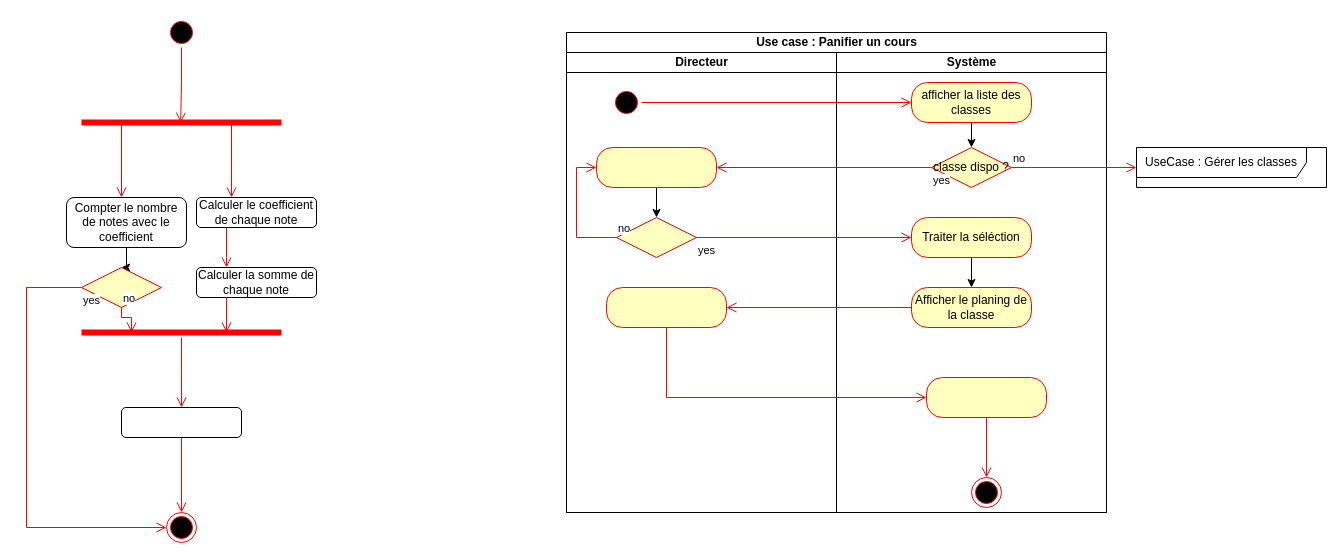
This 1344x560 diagram has some shape labels left out. The centre of each missing label's shape, as x and y in pixels:
"Afficher les actions" belongs at (986,397).
"Diviser la somme par le nombre de notes" belongs at (181,422).
"Existe ?" belongs at (656,237).
"nombre == 0?" belongs at (121,287).
"Selectionner des dates" belongs at (666,307).
"Selectionner une classe" belongs at (656,167).
